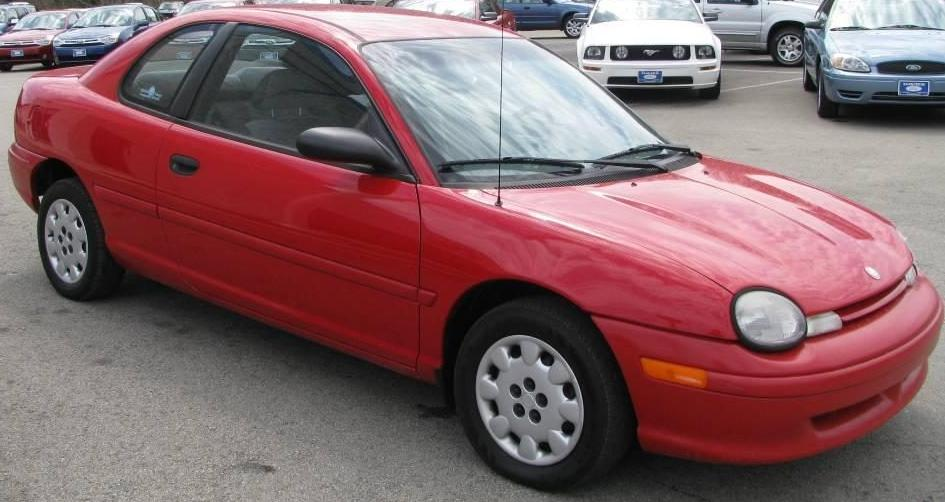front_view: (647, 217, 945, 475)
headlight: (703, 253, 840, 376)
side_glass: (134, 24, 449, 197)
